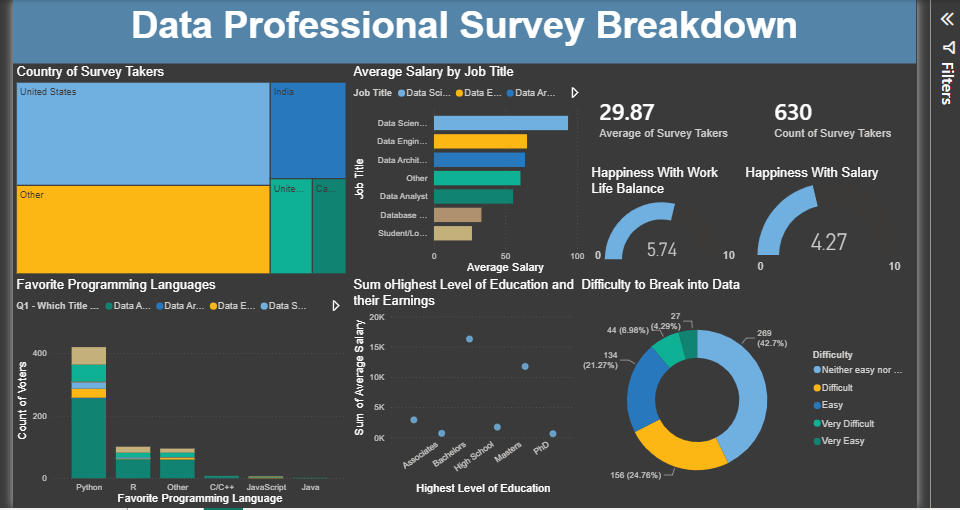

Layout of this report page (visuals, bound fields, positions):
{"tool":"powerbi","page":{"name":"Page 1","canvas":[1280,720],"ordinal":0},"visuals":[{"type":"textbox","box":[0,0,1280,90.3],"z":0},{"type":"cardVisual","fields":{"Data":["Count(Data Professional Survey.Unique ID)"]},"box":[1048.2,90.7,231.8,151.2],"z":1},{"type":"cardVisual","fields":{"Data":["Avg(Data Professional Survey.Q10 - Current Age)"]},"box":[801.3,90.7,245.2,151.2],"z":2},{"type":"barChart","title":"Average Salary by Job Title","fields":{"Category":["Data Professional Survey.Q1 - Which Title Best Fits your Current Role?.1"],"Y":["Avg(Data Professional Survey.Average Salary)"],"Series":["Data Professional Survey.Q1 - Which Title Best Fits your Current Role?.1"]},"box":[477.1,90.7,337.6,302.4],"z":3},{"type":"columnChart","title":"Favorite Programming Languages","fields":{"Category":["Data Professional Survey.Q5 - Favorite Programming Language.1"],"Y":["CountNonNull(Data Professional Survey.Unique ID)"],"Series":["Data Professional Survey.Q1 - Which Title Best Fits your Current Role?.1"]},"box":[0,393.1,477.1,327.6],"z":4},{"type":"treemap","title":"Country of Survey Takers","fields":{"Group":["Data Professional Survey.Q11 - Which Country do you live in?.1"],"Values":["CountNonNull(Data Professional Survey.Q11 - Which Country do you live in?.1)"]},"box":[0,90.7,477.1,302.4],"z":5},{"type":"gauge","title":"Happiness With Work Life Balance","fields":{"Y":["Avg(Data Professional Survey.Q6 - How Happy are you in your Current Position with the following? (Work/Life Balance))"],"MinValue":["Min(Data Professional Survey.Q6 - How Happy are you in your Current Position with the following? (Work/Life Balance))"],"MaxValue":["Max(Data Professional Survey.Q6 - How Happy are you in your Current Position with the following? (Work/Life Balance))"]},"box":[814.7,233.5,218.4,149.5],"z":6},{"type":"gauge","title":"Happiness With Salary","fields":{"Y":["Avg(Data Professional Survey.Q6 - How Happy are you in your Current Position with the following? (Salary))"],"MinValue":["Min(Data Professional Survey.Q6 - How Happy are you in your Current Position with the following? (Salary))"],"MaxValue":["Max(Data Professional Survey.Q6 - How Happy are you in your Current Position with the following? (Salary))"]},"box":[1033.1,233.5,246.9,159.6],"z":7},{"type":"donutChart","title":"Difficulty to Break into Data","fields":{"Category":["Data Professional Survey.Q7 - How difficult was it for you to break into Data?"],"Y":["CountNonNull(Data Professional Survey.Q7 - How difficult was it for you to break into Data?)"]},"box":[801.3,393.1,478.7,327.6],"z":8},{"type":"scatterChart","title":"Sum oHighest Level of Education and their Earnings","fields":{"X":["Data Professional Survey.Q12 - Highest Level of Education"],"Y":["Sum(Data Professional Survey.Average Salary)"]},"box":[477.1,393.1,324.2,312.4],"z":9}]}

Visuals, with their boxes in screenshot pixels (x1, y1, x2, y2):
textbox: detection(22, 2, 917, 66)
cardVisual - Count(Data Professional Survey.Unique ID): detection(755, 66, 917, 171)
cardVisual - Avg(Data Professional Survey.Q10 - Current Age): detection(582, 66, 754, 171)
"Average Salary by Job Title" barChart: detection(356, 66, 592, 277)
"Favorite Programming Languages" columnChart: detection(22, 277, 356, 506)
"Country of Survey Takers" treemap: detection(22, 66, 356, 277)
"Happiness With Work Life Balance" gauge: detection(592, 166, 744, 270)
"Happiness With Salary" gauge: detection(744, 166, 917, 277)
"Difficulty to Break into Data" donutChart: detection(582, 277, 917, 506)
"Sum oHighest Level of Education and their Earnings" scatterChart: detection(356, 277, 582, 495)
